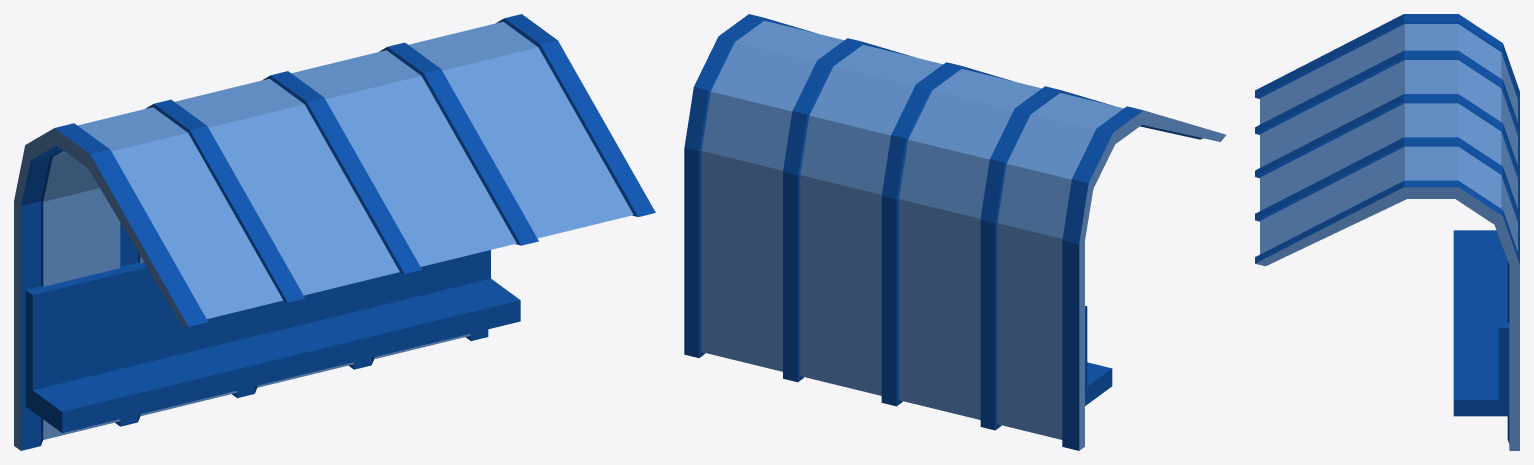
File: stop.glb
The picture shows the model from 3 angles, left to right: view 1: azimuth 30°, elevation 25°; view 2: azimuth 150°, elevation 25°; view 3: azimuth 270°, elevation 25°; orthographic projection. The views are drawn at different scales.
Visible parts, largest first — view 1: BusStop_Cylinder.023; view 2: BusStop_Cylinder.023; view 3: BusStop_Cylinder.023.
Boxes of the visible parts, x1,y1,x2,y2 form: BusStop_Cylinder.023: (14,14,655,450); BusStop_Cylinder.023: (684,14,1226,450); BusStop_Cylinder.023: (1255,14,1519,450).
Bounding box in the file's own units: 4.23 × 3 × 2.73.
